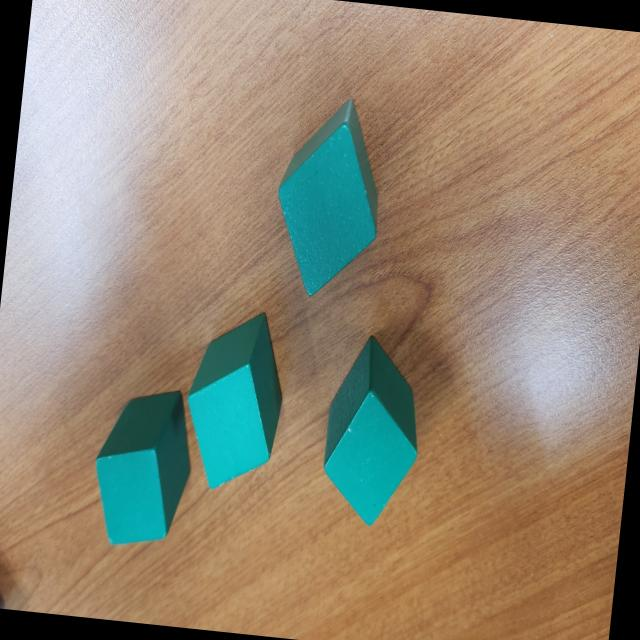green: (266, 92, 391, 304), (316, 330, 429, 529), (177, 304, 291, 496), (88, 381, 199, 551)
